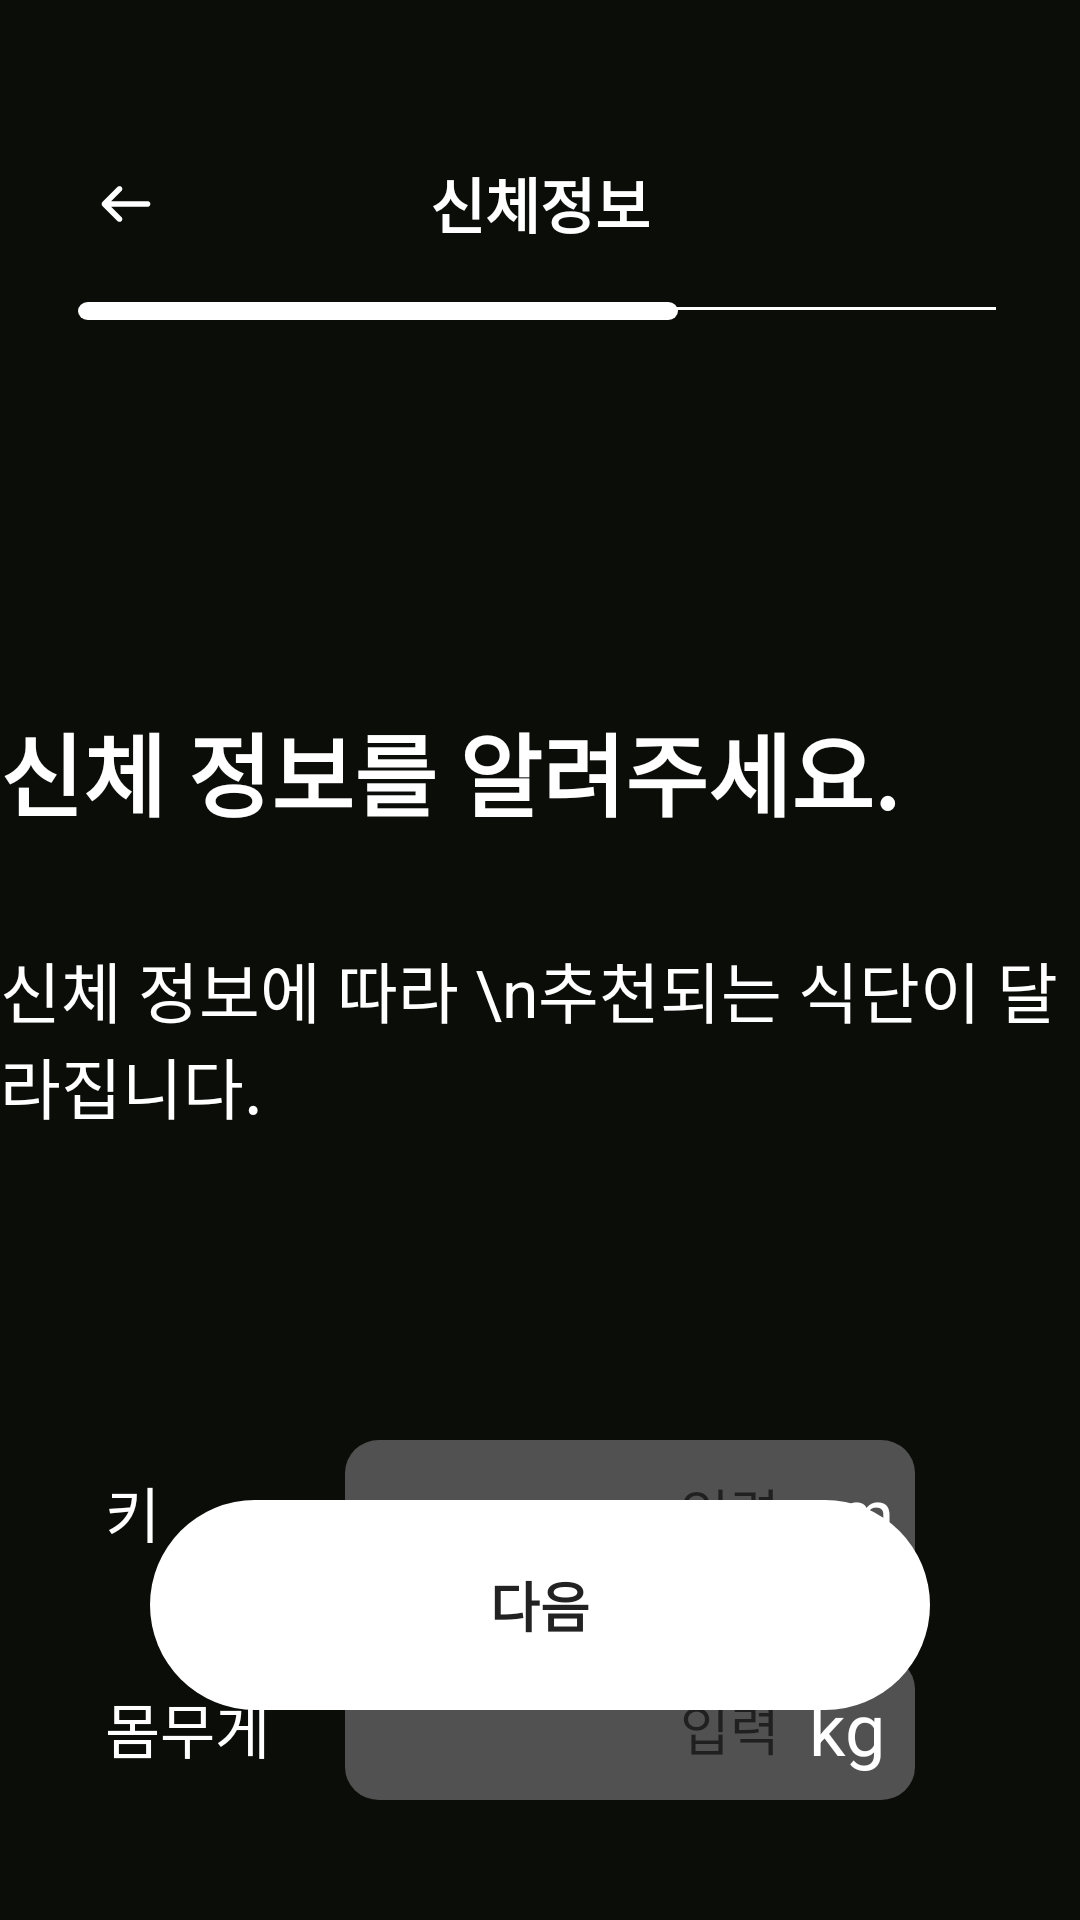

Where icons sit on this 1080px x 1920px app screen, as (x1, y1, x2, y2):
backarrow: (101, 186, 151, 222)
